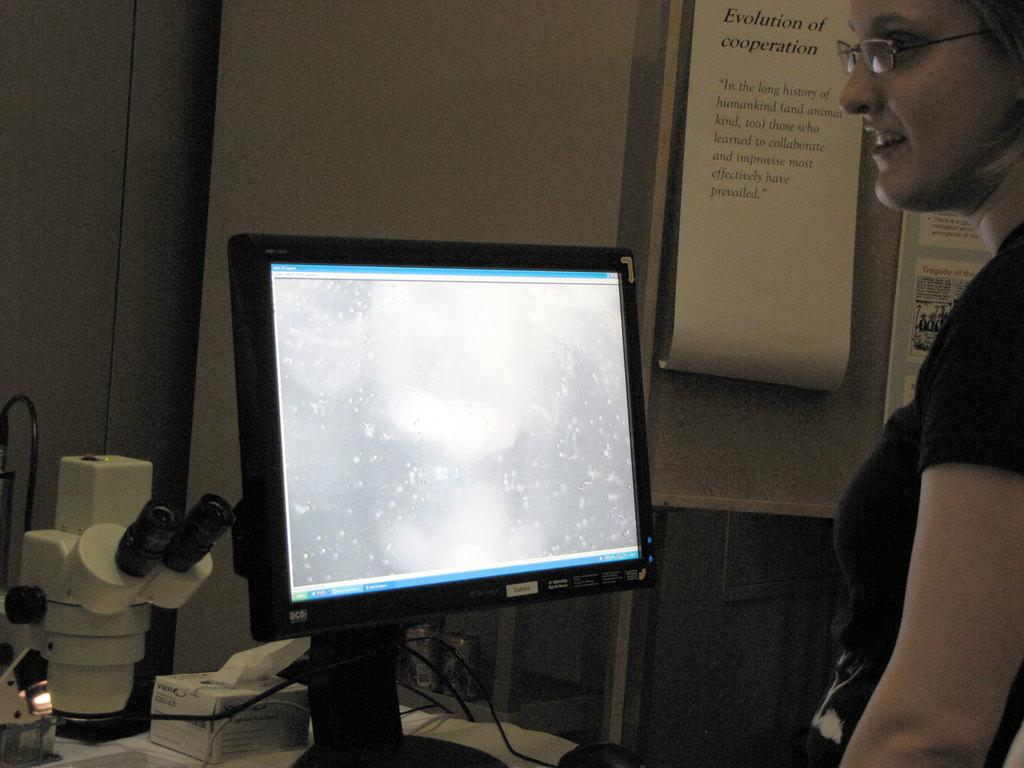Computer-monitor: (220, 233, 661, 649)
